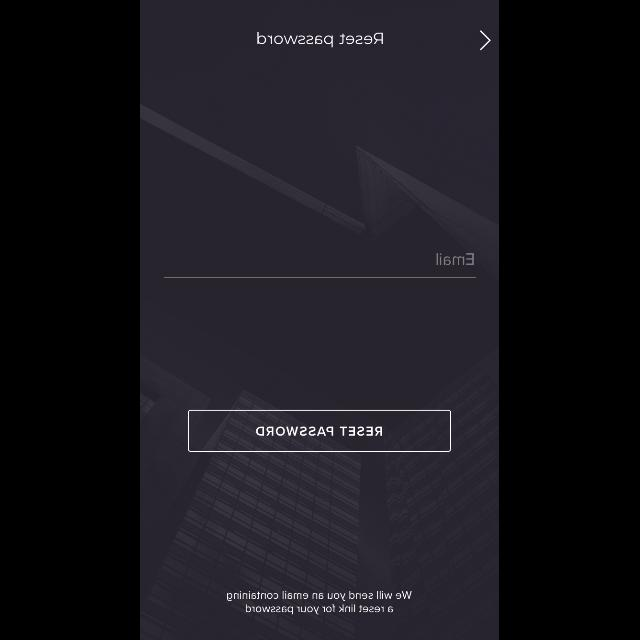backgroundimage: (140, 1, 500, 640)
icon: (481, 30, 492, 51)
input: (164, 254, 476, 278)
text: (228, 591, 412, 615), (256, 32, 384, 48), (438, 254, 474, 266)
textbutton: (188, 410, 452, 452)
